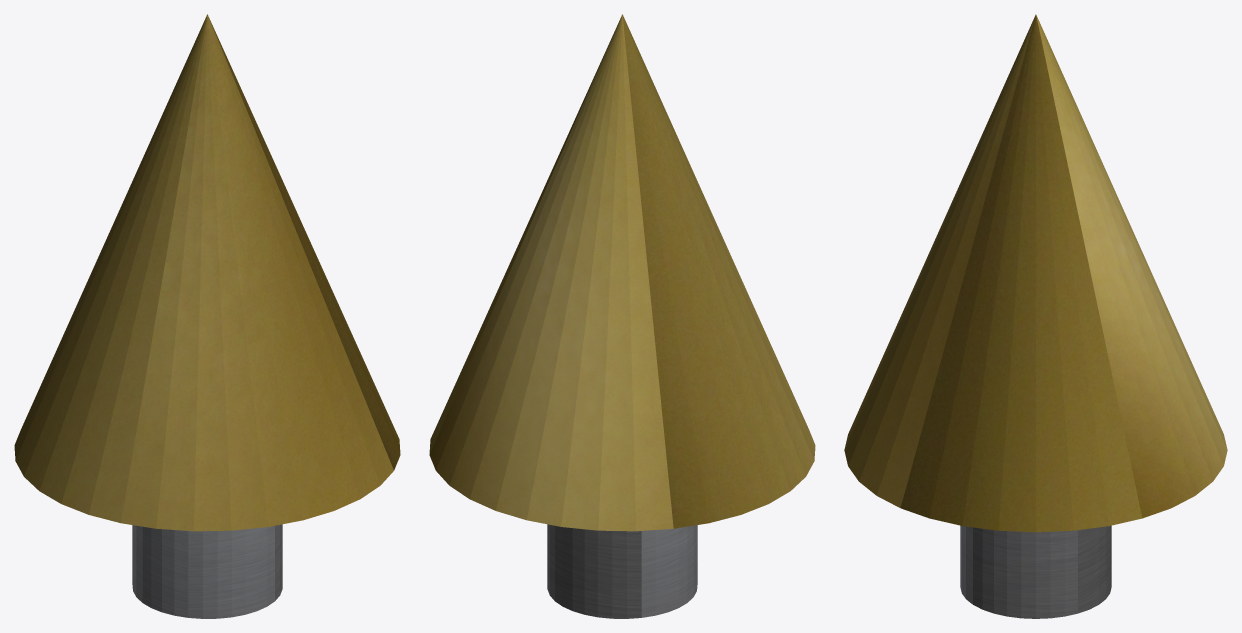
Rendered from tree 3.dae.
The picture shows the model from 3 angles, left to right: view 1: azimuth 30°, elevation 25°; view 2: azimuth 150°, elevation 25°; view 3: azimuth 270°, elevation 25°; orthographic projection.
Visible parts, largest first — view 1: Cylinder; view 2: Cylinder; view 3: Cylinder.
Part boxes in pixels (left/top/right/bottom): Cylinder: left=14, top=14, right=400, bottom=618; Cylinder: left=429, top=14, right=815, bottom=618; Cylinder: left=844, top=14, right=1227, bottom=618.
Bounding box in the file's own units: 0.6838 × 0.6748 × 1.11.
2 materials, 2 textured.
